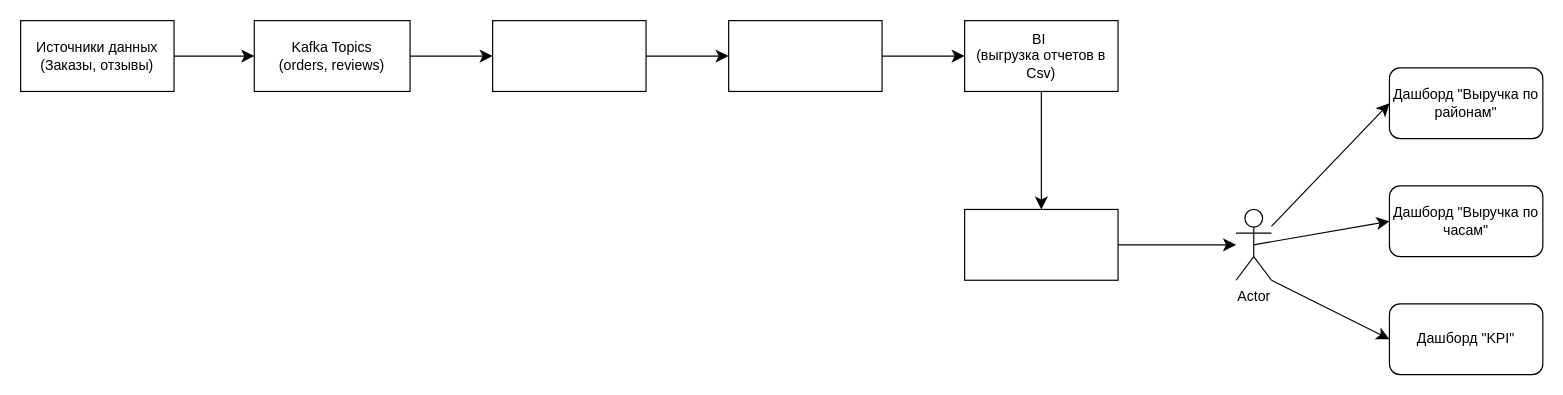
Image size: 1563x395. Some labels were removed from this diagram. The centre of each missing label's shape, as x and y in pixels:
DataLake (Raw, Mart): the point at 804,55
Spark (Streaming) Scala: the point at 568,55
Мониторинг (Spark UI): the point at 1040,244
